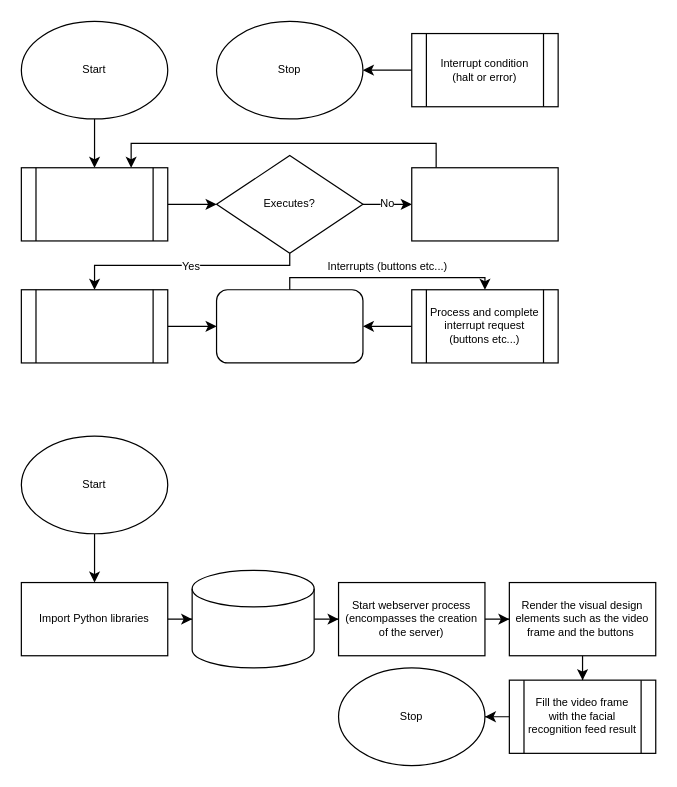
Image size: 677x787. Some labels were removed from this diagram. The box of each missing label's shape, as (x1, y1, x2, y2) in pixels:
Import Flask settings: (191, 569, 314, 668)
Initialise and run the Facial Recognition module: (20, 167, 168, 241)
Initialise and start the web-server: (20, 289, 168, 363)
Runtime loop: (215, 289, 363, 363)
Warn user of error (prompt for restart): (411, 167, 558, 241)
